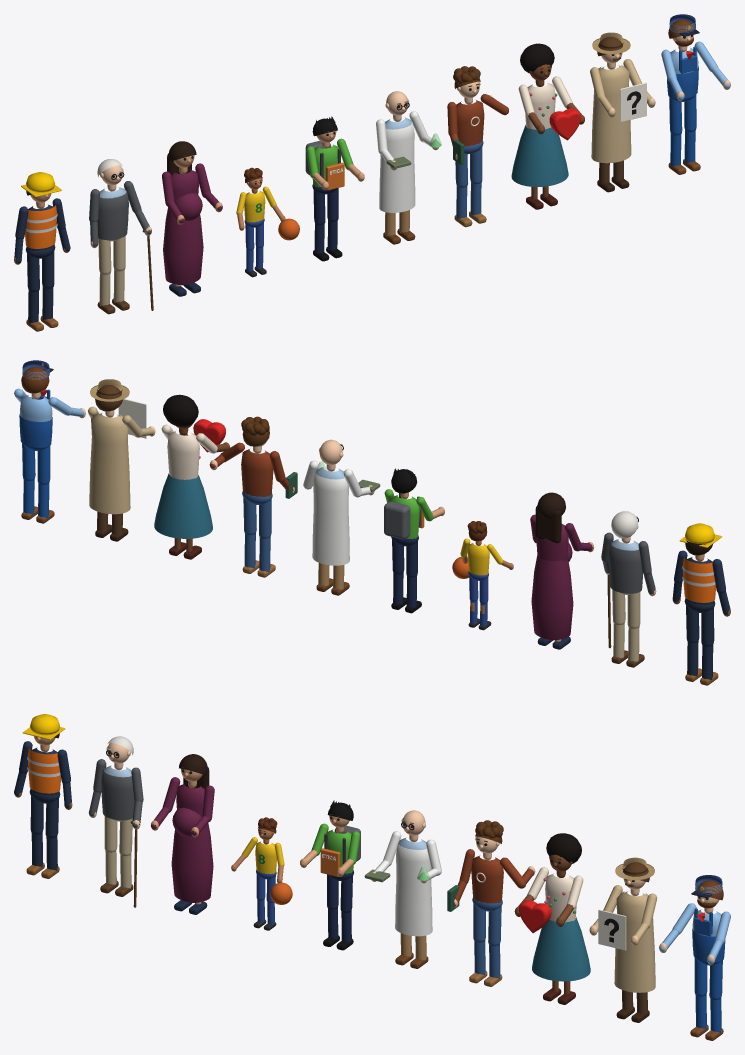
The model's file is personagens_provisorios.glb.
The picture shows the model from 3 angles, top to bottom: view 1: azimuth 30°, elevation 25°; view 2: azimuth 150°, elevation 25°; view 3: azimuth 330°, elevation 25°; orthographic projection. The views are drawn at different scales.
Parts seen in each view (by area): view 1: gestante_cor_6a2448, desconhecidos_cor_cdb48a (×2), cientista_cor_f4f4f2 (×2), vinculo_cor_2e6e85, operador_cor_1f5aa6, idoso_cor_54575c, trabalhador_cor_22304a, colega_cor_8a3f22, colega_cor_3a5f91, idoso_cor_bfae8e, vinculo_cor_f2e2cf, estudante_cor_1f2c4f (+15 smaller); view 2: gestante_cor_6a2448, cientista_cor_f4f4f2 (×2), desconhecidos_cor_cdb48a, vinculo_cor_2e6e85, operador_cor_1f5aa6, idoso_cor_54575c, colega_cor_8a3f22, colega_cor_3a5f91, trabalhador_cor_22304a, vinculo_cor_f2e2cf, idoso_cor_bfae8e, estudante_cor_1f2c4f (+18 smaller); view 3: gestante_cor_6a2448, desconhecidos_cor_cdb48a (×2), cientista_cor_f4f4f2 (×2), vinculo_cor_2e6e85, operador_cor_1f5aa6, idoso_cor_54575c, colega_cor_8a3f22, colega_cor_3a5f91, trabalhador_cor_22304a, idoso_cor_bfae8e, vinculo_cor_f2e2cf, estudante_cor_1f2c4f (+16 smaller).
Boxes of the visible parts, x1=… form: gestante_cor_6a2448: x1=162, y1=163, x2=222, y2=285; desconhecidos_cor_cdb48a (×2): x1=590, y1=59, x2=655, y2=163; cientista_cor_f4f4f2 (×2): x1=376, y1=111, x2=438, y2=212; vinculo_cor_2e6e85: x1=511, y1=124, x2=568, y2=186; operador_cor_1f5aa6: x1=667, y1=46, x2=698, y2=166; idoso_cor_54575c: x1=89, y1=181, x2=151, y2=246; trabalhador_cor_22304a: x1=25, y1=245, x2=55, y2=323; colega_cor_8a3f22: x1=447, y1=94, x2=508, y2=157; colega_cor_3a5f91: x1=455, y1=140, x2=483, y2=219; idoso_cor_bfae8e: x1=98, y1=236, x2=125, y2=306; vinculo_cor_f2e2cf: x1=518, y1=76, x2=572, y2=129; estudante_cor_1f2c4f: x1=312, y1=184, x2=338, y2=253; gestante_cor_6a2448: x1=530, y1=514, x2=592, y2=640; cientista_cor_f4f4f2 (×2): x1=303, y1=460, x2=372, y2=565; desconhecidos_cor_cdb48a: x1=89, y1=413, x2=130, y2=514; vinculo_cor_2e6e85: x1=154, y1=473, x2=212, y2=538; operador_cor_1f5aa6: x1=19, y1=389, x2=52, y2=517; idoso_cor_54575c: x1=601, y1=532, x2=655, y2=594; colega_cor_8a3f22: x1=209, y1=442, x2=293, y2=496; colega_cor_3a5f91: x1=242, y1=491, x2=272, y2=571; trabalhador_cor_22304a: x1=684, y1=599, x2=715, y2=680; vinculo_cor_f2e2cf: x1=161, y1=424, x2=217, y2=479; idoso_cor_bfae8e: x1=612, y1=589, x2=640, y2=661; estudante_cor_1f2c4f: x1=391, y1=535, x2=418, y2=608; gestante_cor_6a2448: x1=151, y1=777, x2=214, y2=902; desconhecidos_cor_cdb48a (×2): x1=589, y1=885, x2=657, y2=992; cientista_cor_f4f4f2 (×2): x1=372, y1=831, x2=441, y2=936; vinculo_cor_2e6e85: x1=532, y1=917, x2=590, y2=981; operador_cor_1f5aa6: x1=692, y1=908, x2=725, y2=1032; idoso_cor_54575c: x1=89, y1=759, x2=143, y2=827; colega_cor_8a3f22: x1=453, y1=849, x2=534, y2=906; colega_cor_3a5f91: x1=472, y1=898, x2=502, y2=978; trabalhador_cor_22304a: x1=29, y1=789, x2=60, y2=870; idoso_cor_bfae8e: x1=104, y1=816, x2=132, y2=888; vinculo_cor_f2e2cf: x1=527, y1=867, x2=583, y2=922; estudante_cor_1f2c4f: x1=327, y1=870, x2=353, y2=942.
Size of the model in its own units: 8.79 by 1.89 by 0.9121.
